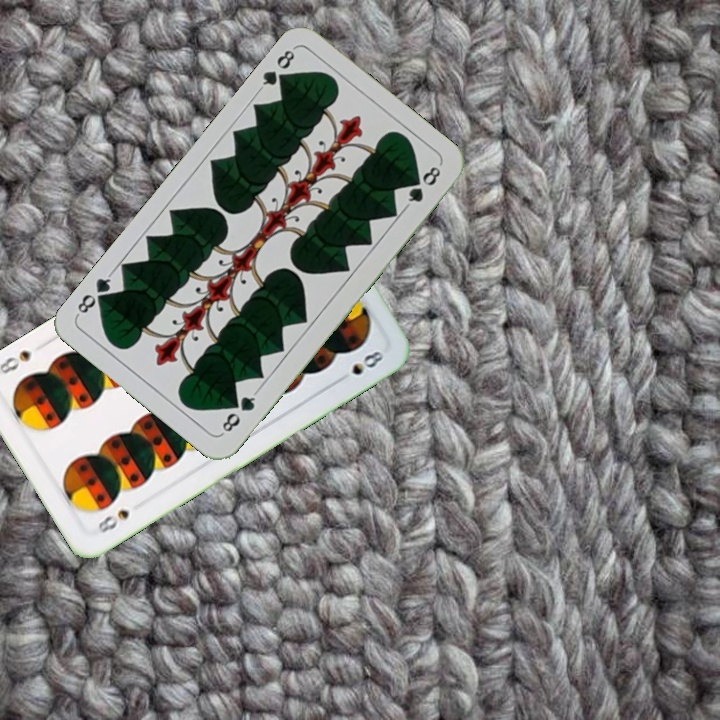G8: (215, 387, 260, 437), (254, 44, 298, 93)
S8: (94, 505, 132, 537)
